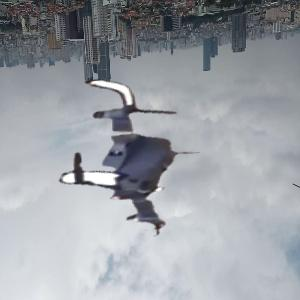drone: (39, 75, 206, 242)
